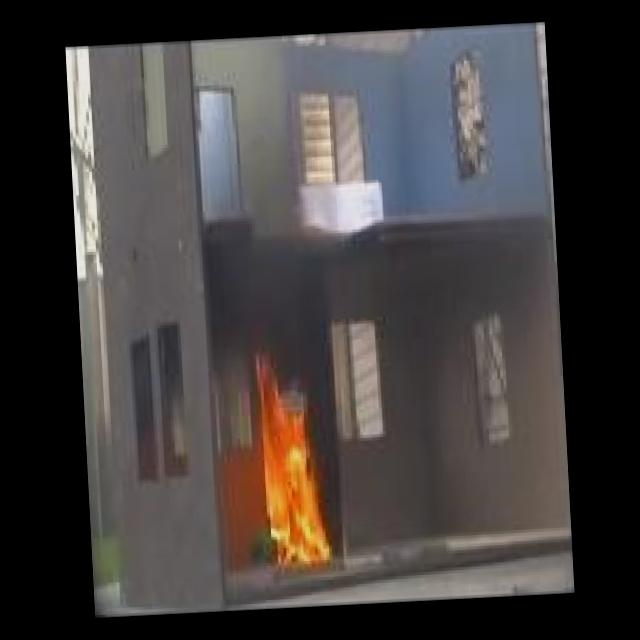fire: (224, 372, 342, 566)
